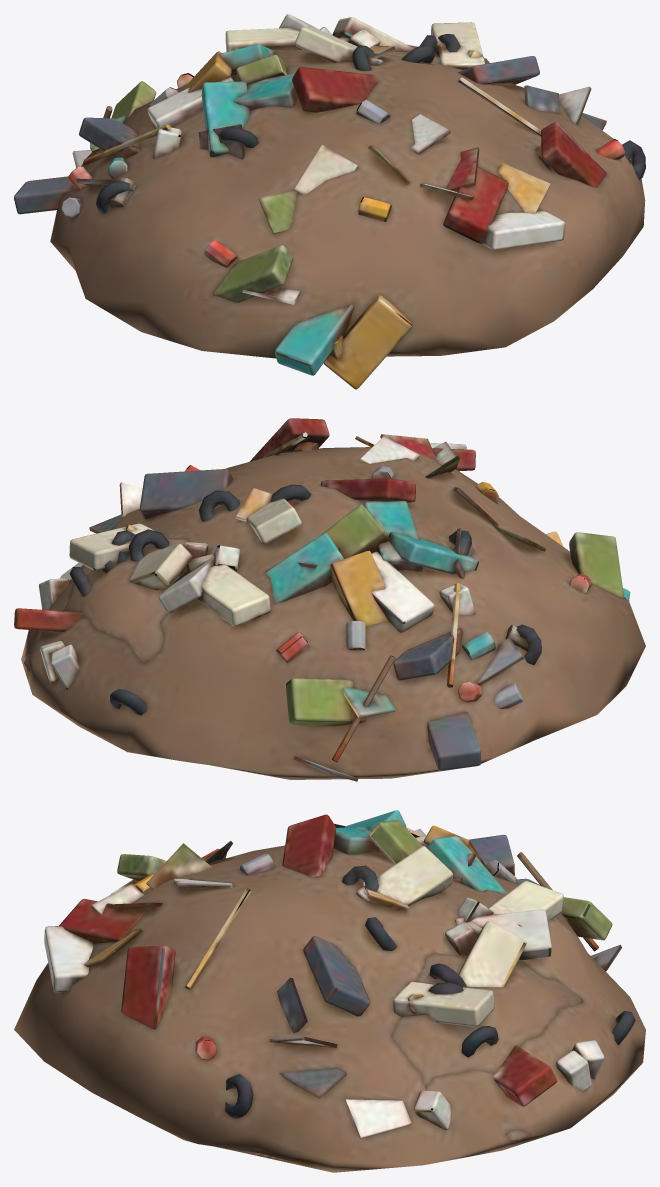
File: mountain.glb
3 renders of one model, top to bottom at view 1: azimuth 30°, elevation 25°; view 2: azimuth 150°, elevation 25°; view 3: azimuth 270°, elevation 25°, orthographic. The views are drawn at different scales.
Visible parts, largest first — view 1: body; view 2: body; view 3: body.
Part boxes in pixels (x1,y1,x2,y2): body: (14,14,645,389); body: (14,418,645,781); body: (14,810,645,1172).
Size of the model in its own units: 2.09 by 0.8095 by 2.05.
1 material, 1 textured.
